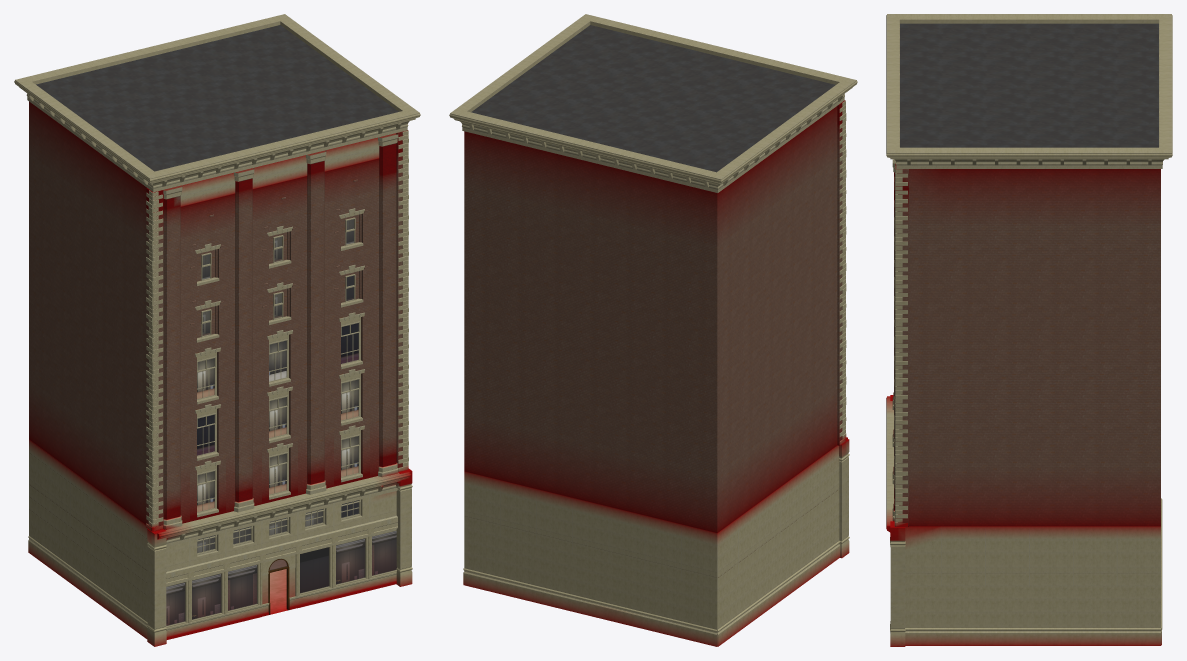
File: building-medium.glb
3 views of the same model, side by side, from view 1: azimuth 30°, elevation 25°; view 2: azimuth 150°, elevation 25°; view 3: azimuth 270°, elevation 25° (orthographic). The views are drawn at different scales.
Parts seen in each view (by area): view 1: Building_Medium_2.001; view 2: Building_Medium_2.001; view 3: Building_Medium_2.001.
Boxes of the visible parts, x1,y1,x2,y2 form: Building_Medium_2.001: [14, 14, 420, 646]; Building_Medium_2.001: [449, 14, 857, 646]; Building_Medium_2.001: [886, 14, 1172, 646].
Size of the model in its own units: 15.06 by 25.01 by 13.06.
Materials: 12 (11 with a texture image).
